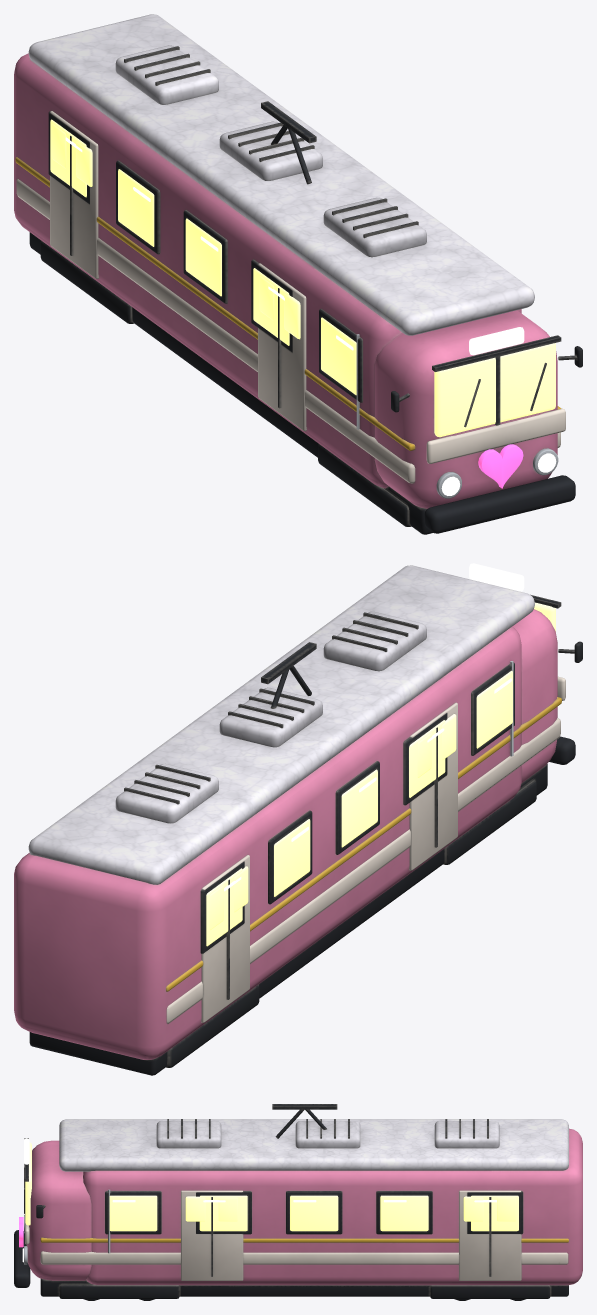
Rendered from sf_train.glb.
The picture shows the model from 3 angles, top to bottom: view 1: azimuth 30°, elevation 25°; view 2: azimuth 150°, elevation 25°; view 3: azimuth 270°, elevation 25°; orthographic projection. The views are drawn at different scales.
Parts seen in each view (by area): view 1: sf_train; view 2: sf_train; view 3: sf_train.
Boxes of the visible parts, box(x1,y1,x2,y2) form: sf_train: box(14, 14, 582, 534); sf_train: box(14, 563, 582, 1075); sf_train: box(14, 1104, 582, 1300).
Bounding box in the file's own units: 3.14 × 4.34 × 12.28.
Materials: 11 (11 with a texture image).
